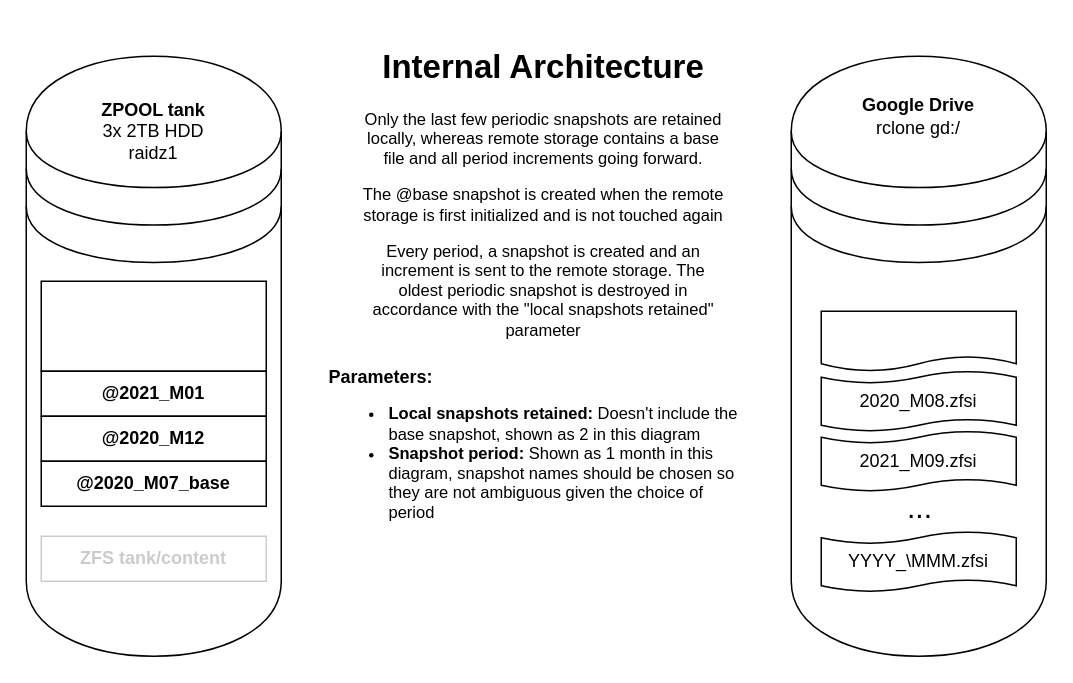
Some shapes in this 1073 by 683 pixel diagram are drawn without their labels. The centre of each missing label's shape, as x and y in pixels:
"2020_M07_base.zfs" goes at pixel 918 340.
"ZFS tank/archives compression=lz4 encryption=aes-256-gcm" goes at pixel 153 325.
